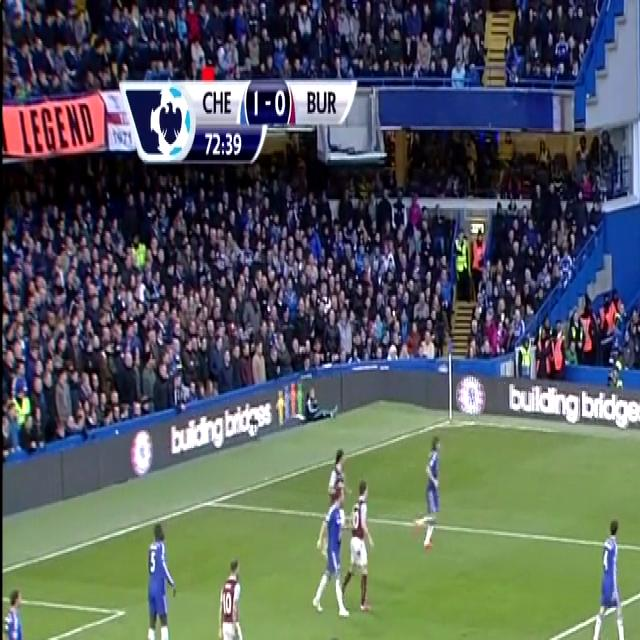soccer-player: (308, 487, 350, 622), (586, 510, 629, 640), (139, 512, 180, 640), (348, 477, 384, 621), (413, 428, 449, 558), (214, 542, 258, 640), (322, 437, 350, 548), (0, 581, 35, 640), (308, 631, 352, 640)
